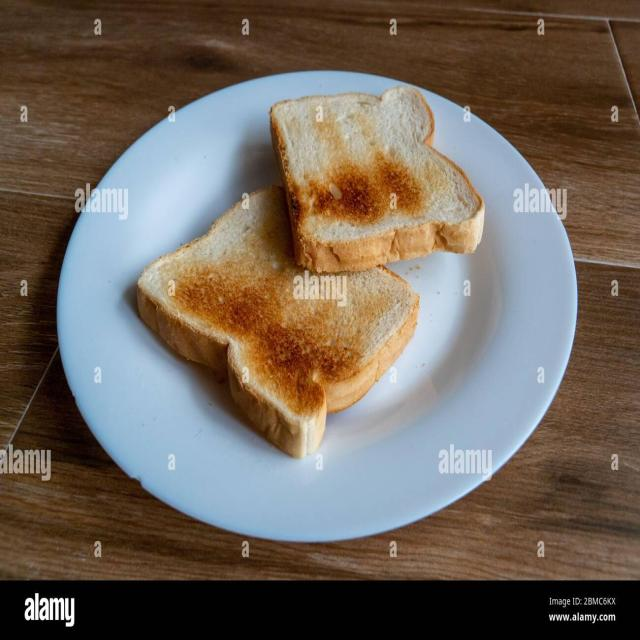Bread: (138, 185, 419, 457), (270, 87, 484, 272)
